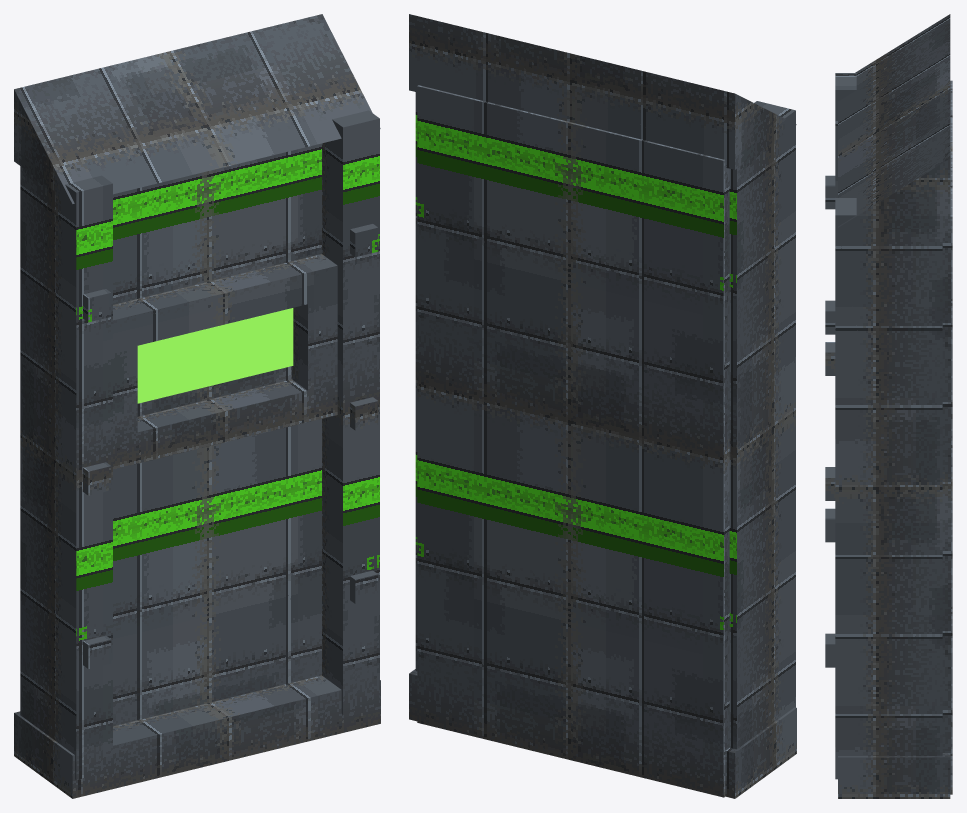
File: epsilon_c_aperture.glb
3 renders of one model, left to right at view 1: azimuth 30°, elevation 25°; view 2: azimuth 150°, elevation 25°; view 3: azimuth 270°, elevation 25°, orthographic. The views are drawn at different scales.
Visible parts, largest first — view 1: epsilon_c_aperture; view 2: epsilon_c_aperture; view 3: epsilon_c_aperture.
Part boxes in pixels (x1=…): epsilon_c_aperture: x1=14, y1=14, x2=380, y2=798; epsilon_c_aperture: x1=409, y1=14, x2=796, y2=798; epsilon_c_aperture: x1=825, y1=14, x2=952, y2=798.
Size of the model in its own units: 1.34 by 2.77 by 0.5.
2 materials, 1 textured.
